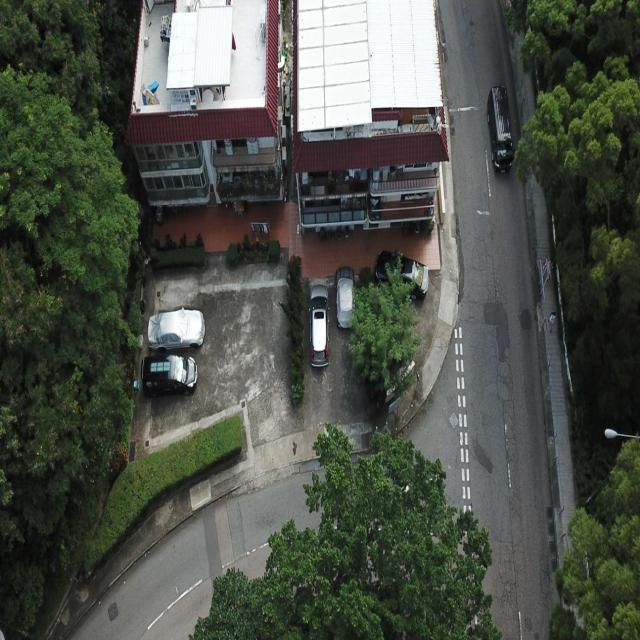p3rson: (547, 308, 556, 332)
